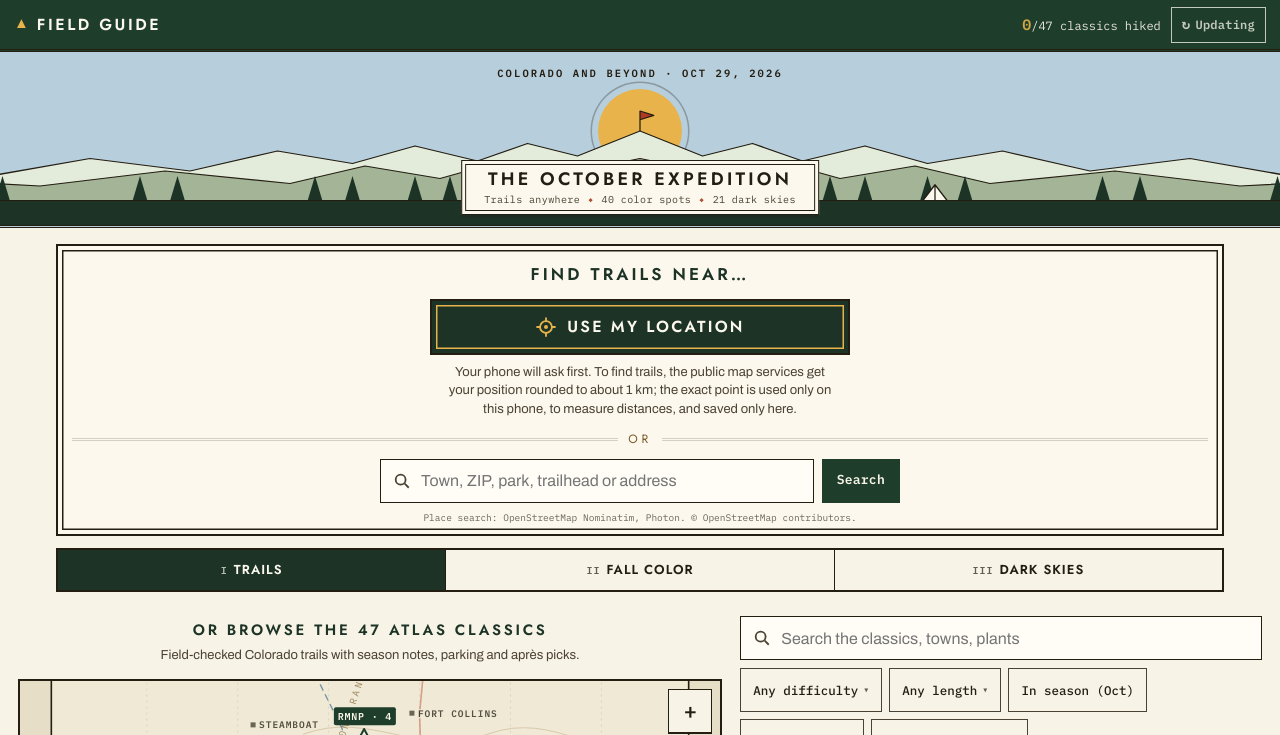
Scenario: location-first discovery › a location fix searches every source around it and lists real trails, merged and nearest first
What coordinates should you click on to do the following:
click the button "Use my location"
I would click on:
 (640, 327)
Its box is [430, 299, 850, 355].
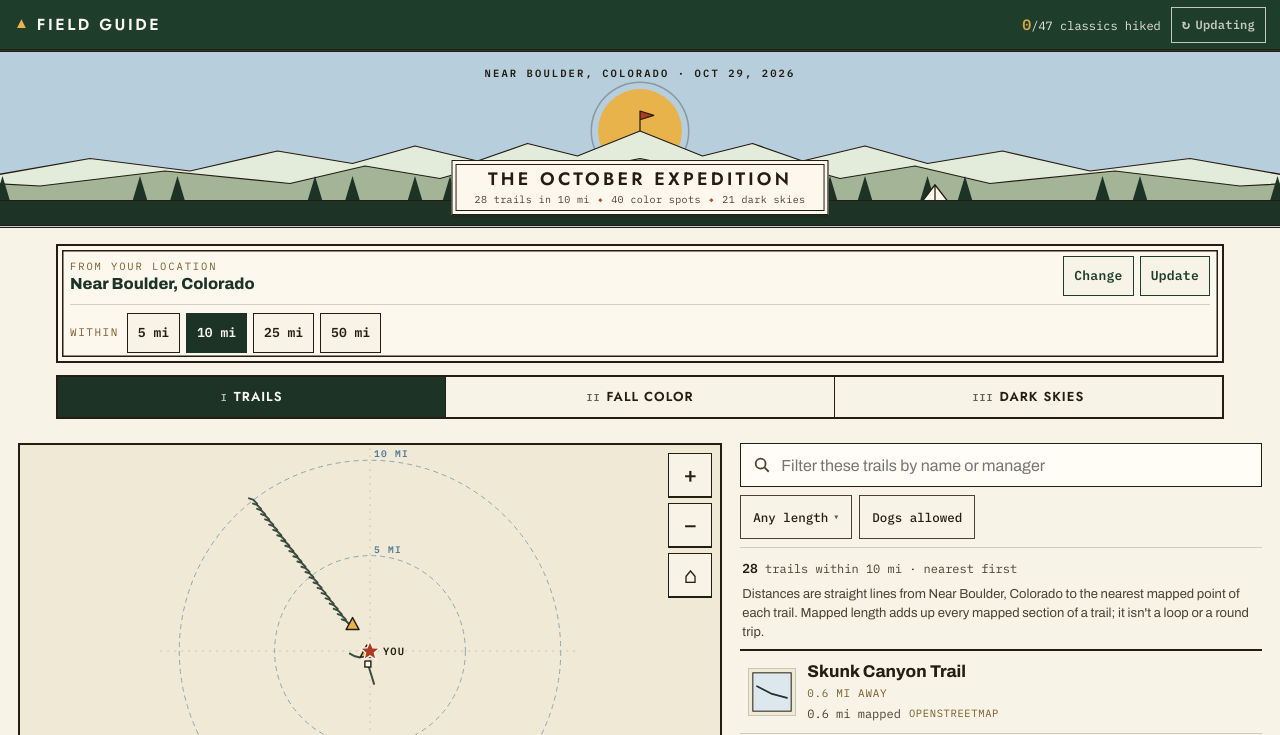
Result: the text "straight lines from" is shown at [742, 587, 929, 601]
